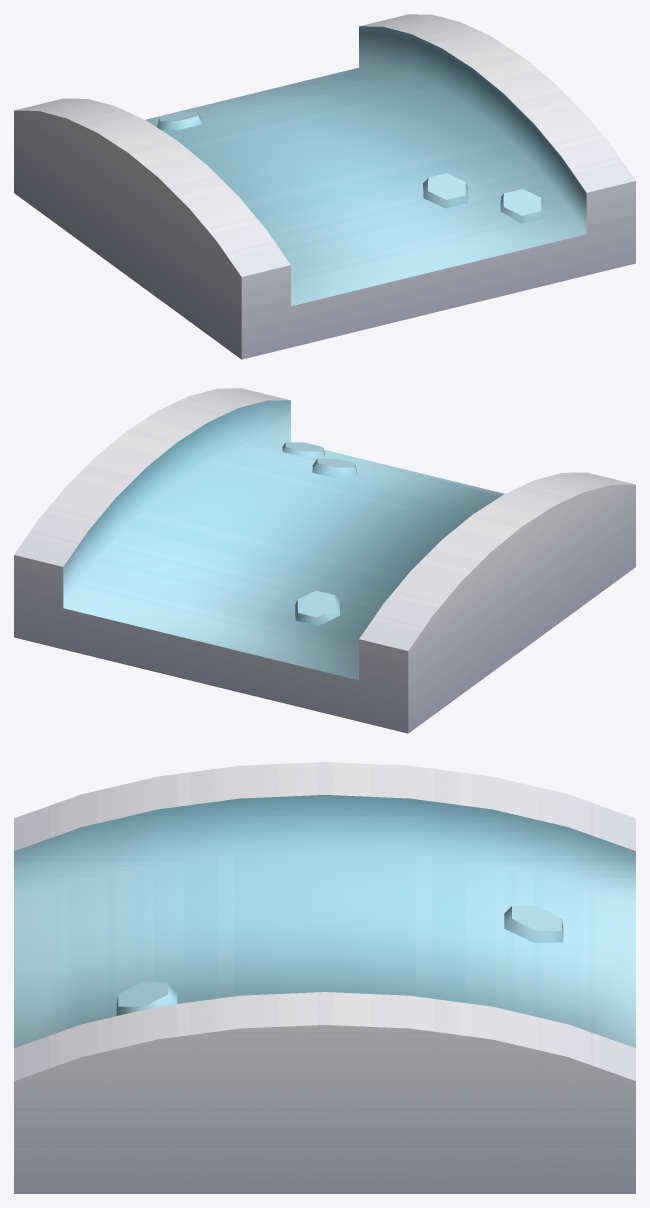
File: tower-defense-kit--snow-tile-bump.glb
The picture shows the model from 3 angles, top to bottom: view 1: azimuth 30°, elevation 25°; view 2: azimuth 150°, elevation 25°; view 3: azimuth 270°, elevation 25°; orthographic projection. The views are drawn at different scales.
Parts seen in each view (by area): view 1: snow-tile-bump; view 2: snow-tile-bump; view 3: snow-tile-bump.
Part boxes in pixels (x1=…): snow-tile-bump: x1=14, y1=14, x2=635, y2=359; snow-tile-bump: x1=14, y1=388, x2=635, y2=733; snow-tile-bump: x1=14, y1=762, x2=635, y2=1193.
Size of the model in its own units: 1 by 0.3 by 1.
Materials: 1 (1 with a texture image).
